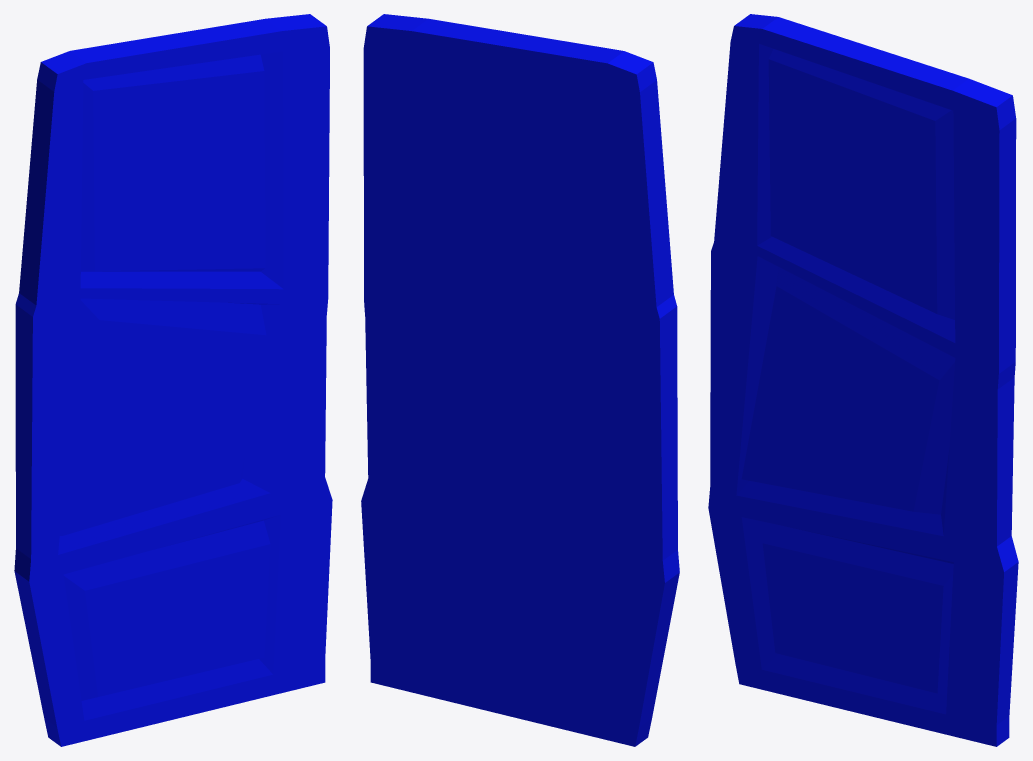
The model's file is DOUBLE_DOOR_RIGHT.fbx.
3 views of the same model, side by side, from view 1: azimuth 30°, elevation 25°; view 2: azimuth 150°, elevation 25°; view 3: azimuth 330°, elevation 25° (orthographic). The views are drawn at different scales.
Visible parts, largest first — view 1: RIGHT; view 2: RIGHT; view 3: RIGHT.
Part boxes in pixels (box(x1,y1,x2,y2)): RIGHT: box(14, 14, 332, 746); RIGHT: box(361, 14, 679, 746); RIGHT: box(708, 14, 1018, 746).
Size of the model in its own units: 1.63 by 3.48 by 0.1684.
